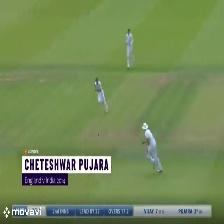ball: (94, 131, 101, 139)
